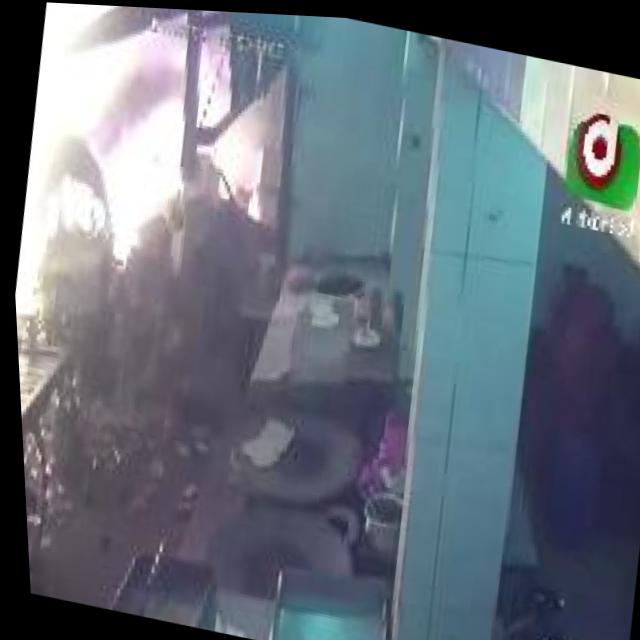fire: (0, 0, 245, 354), (169, 88, 280, 225)
